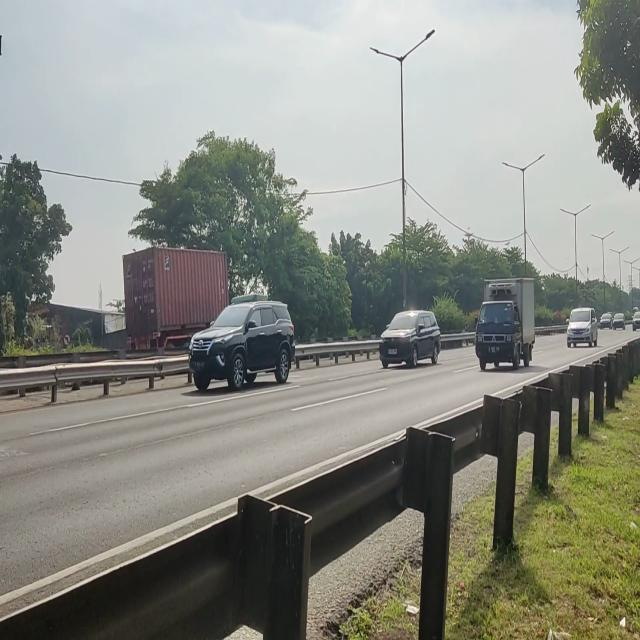Golongan I: (188, 288, 296, 400), (472, 273, 540, 374), (380, 300, 446, 374)
